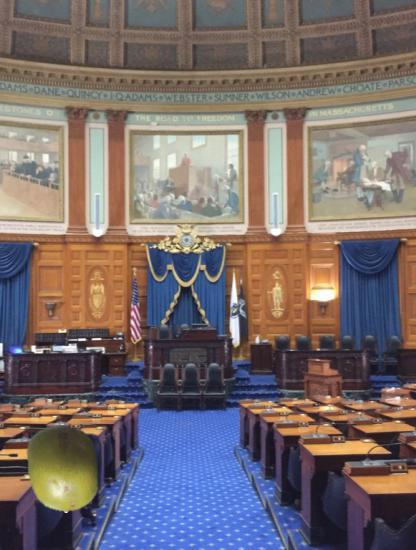Pomelo: (18, 424, 108, 514)
